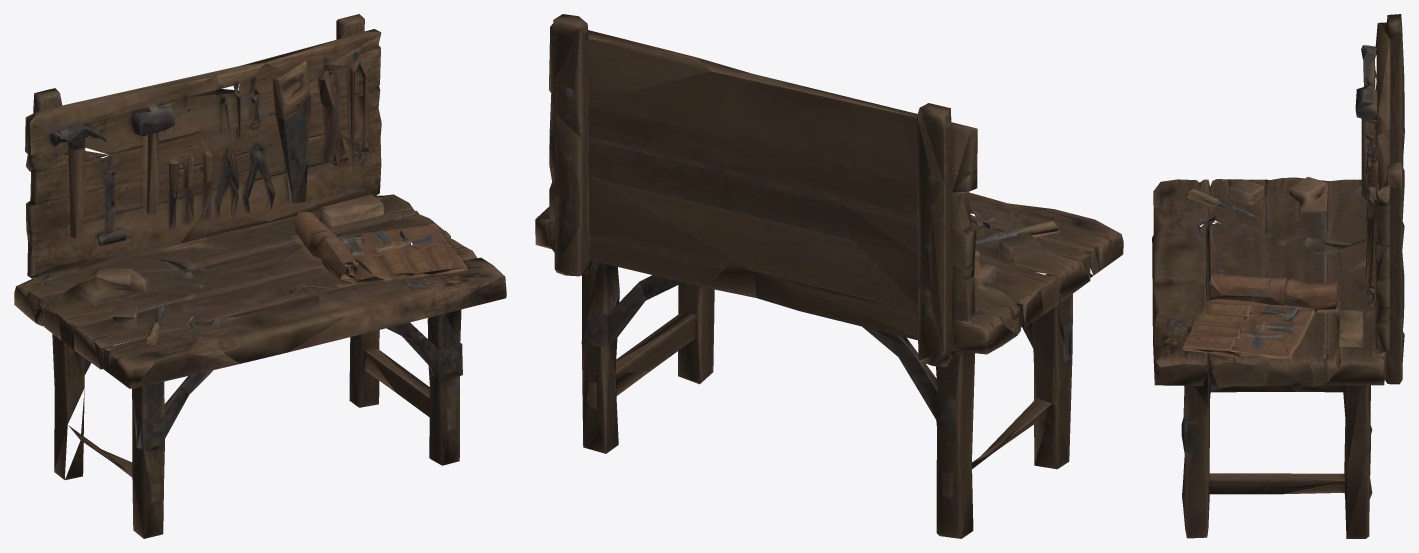
The model's file is workbench.glb.
3 renders of one model, left to right at view 1: azimuth 30°, elevation 25°; view 2: azimuth 150°, elevation 25°; view 3: azimuth 270°, elevation 25°, orthographic. The views are drawn at different scales.
Visible parts, largest first — view 1: output_unwrapped; view 2: output_unwrapped; view 3: output_unwrapped.
Part boxes in pixels (<box>): output_unwrapped: <box>14,14,506,538</box>; output_unwrapped: <box>535,14,1123,538</box>; output_unwrapped: <box>1152,14,1404,538</box>.
Bounding box in the file's own units: 1.9 × 1.76 × 1.09.
Materials: 1 (1 with a texture image).
